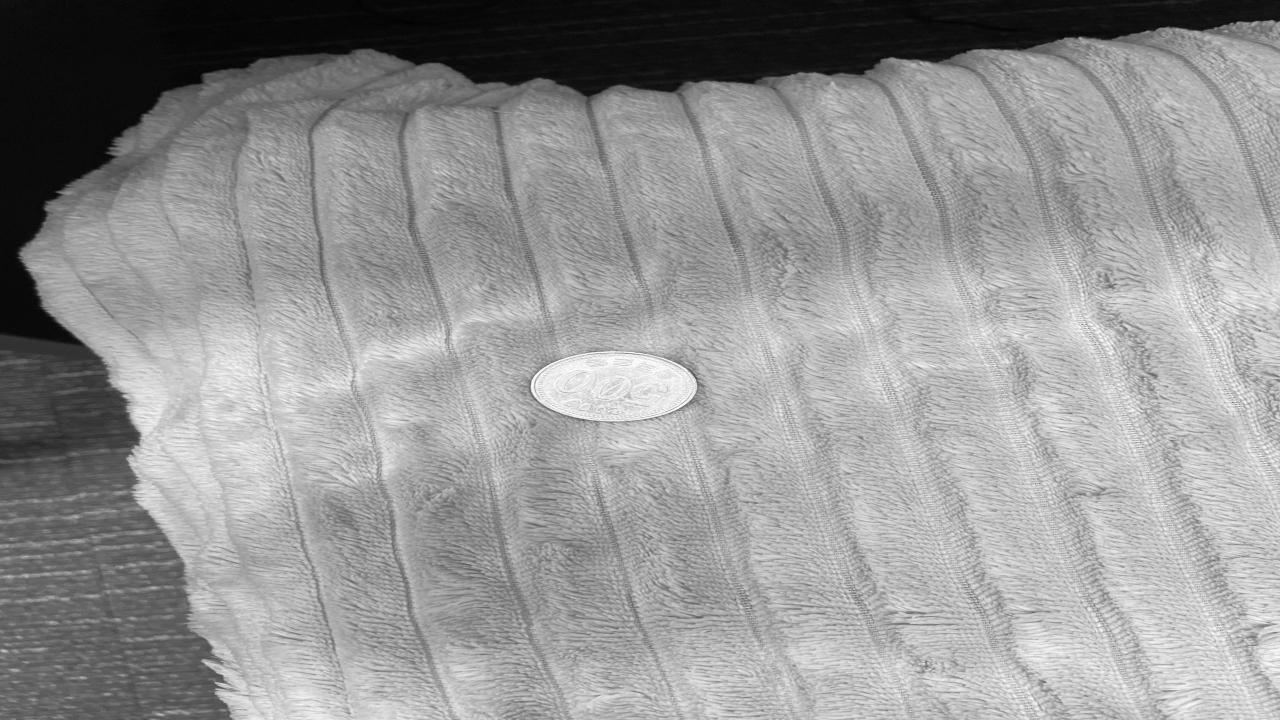coin: (526, 350, 702, 422)
